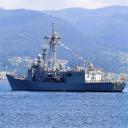Fragata: (7, 25, 128, 93)
